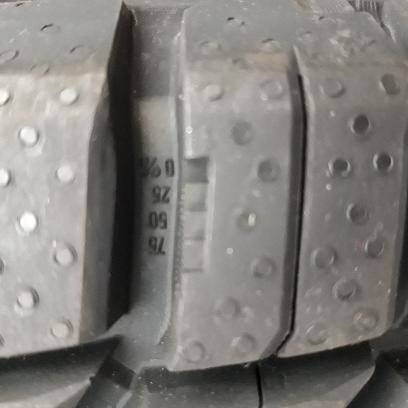temoin:100: (175, 153, 213, 297)
